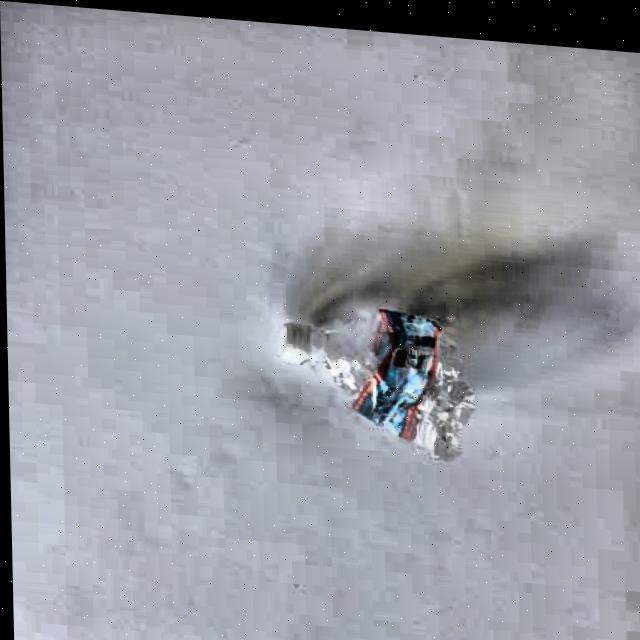plastic: (273, 294, 487, 469)
